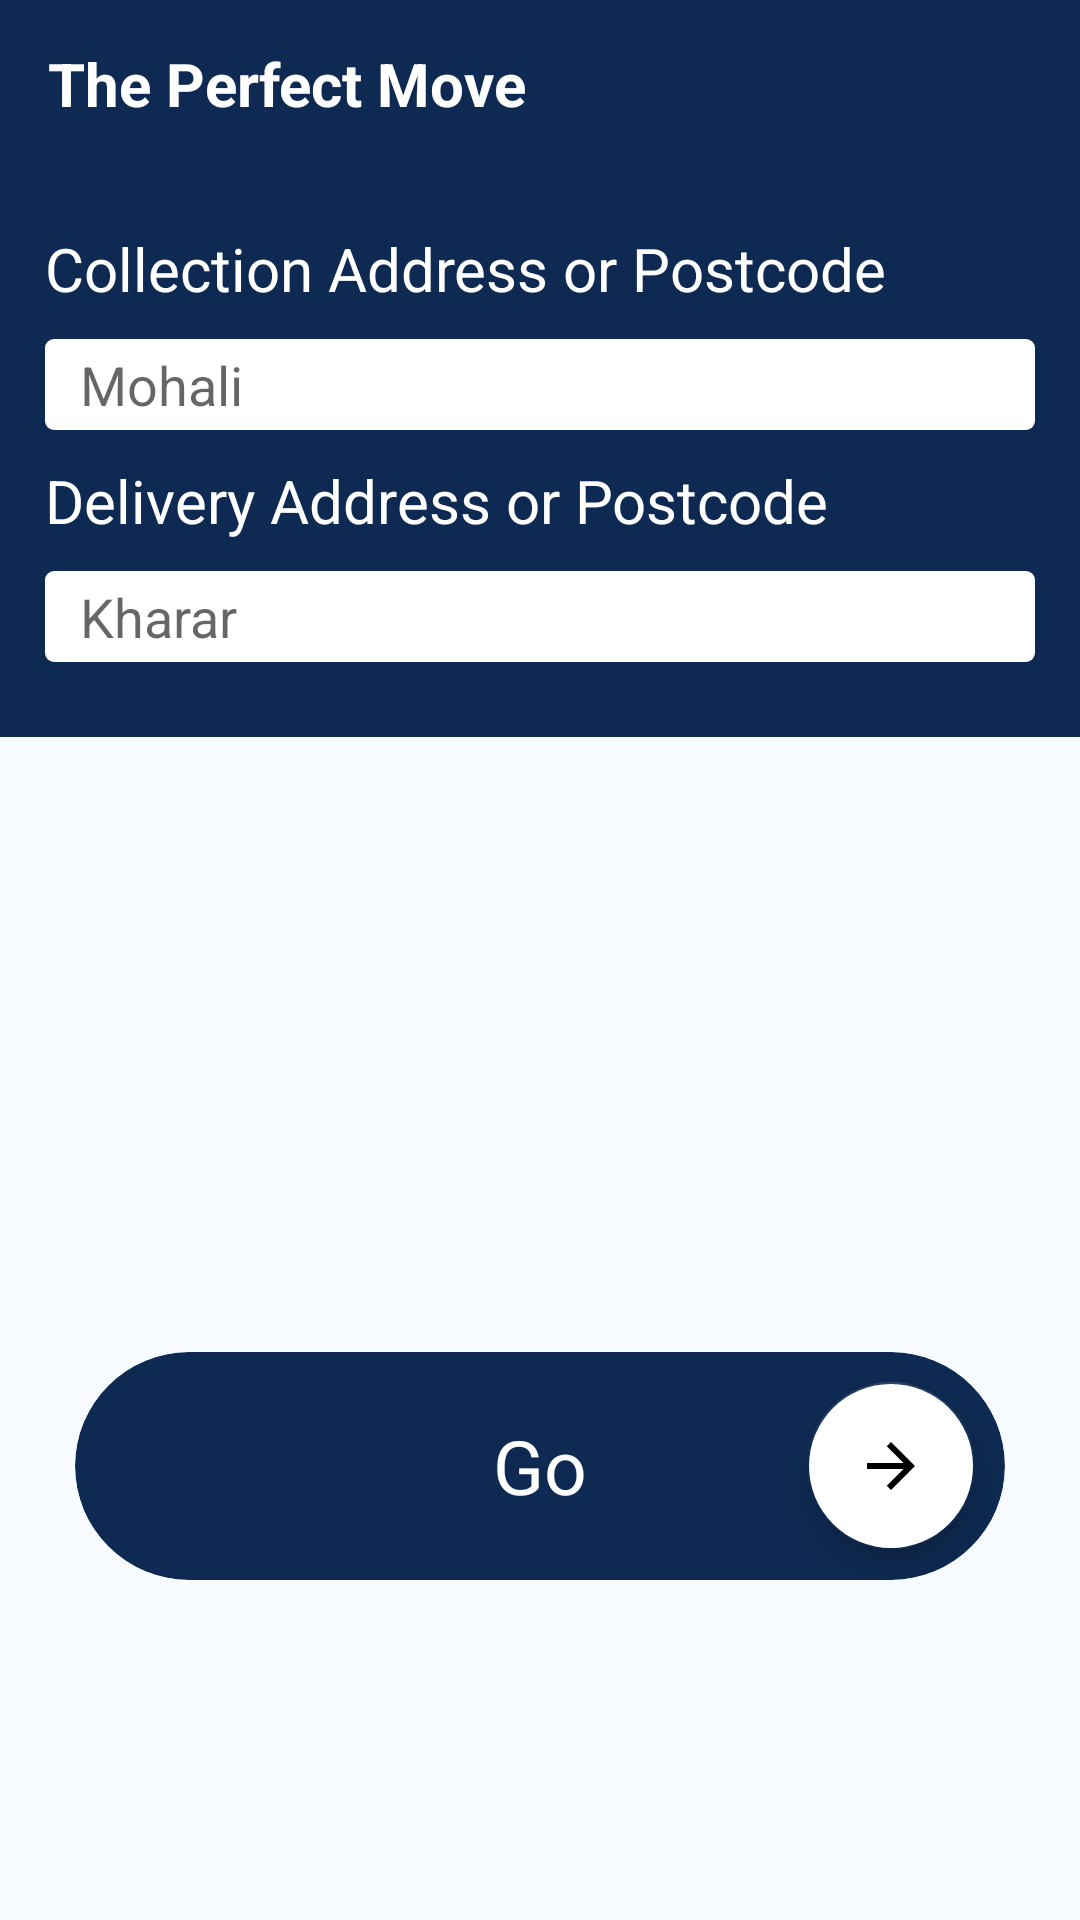

Point at icon controls on the screen. Image size 1080x1920, points as (x=x, y=y).
arrow forward: (x=891, y=1465)
